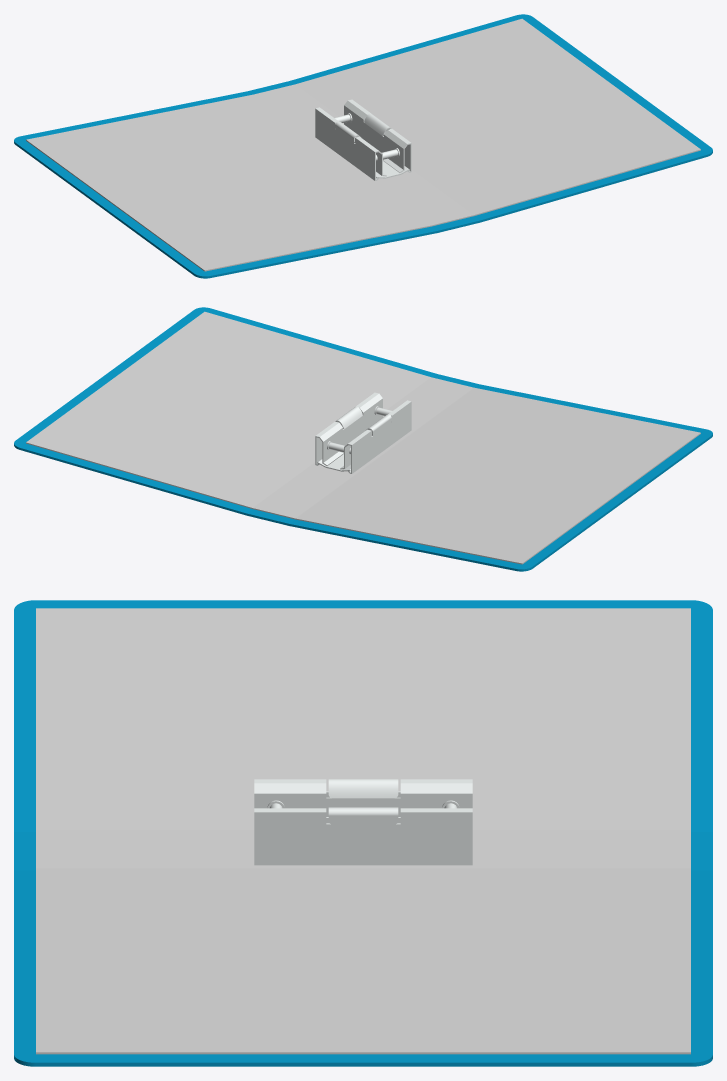
File: 447_パイプ式ファイル細開.glb
The picture shows the model from 3 angles, top to bottom: view 1: azimuth 30°, elevation 25°; view 2: azimuth 150°, elevation 25°; view 3: azimuth 270°, elevation 25°; orthographic projection. The views are drawn at different scales.
Visible parts, largest first — view 1: 447_pipe_file_S_open; view 2: 447_pipe_file_S_open; view 3: 447_pipe_file_S_open.
Boxes of the visible parts, box(x1,y1,x2,y2) form: 447_pipe_file_S_open: box(14, 14, 712, 278); 447_pipe_file_S_open: box(14, 307, 712, 571); 447_pipe_file_S_open: box(14, 600, 712, 1066).
Bounding box in the file's own units: 0.5013 × 0.031 × 0.32.
